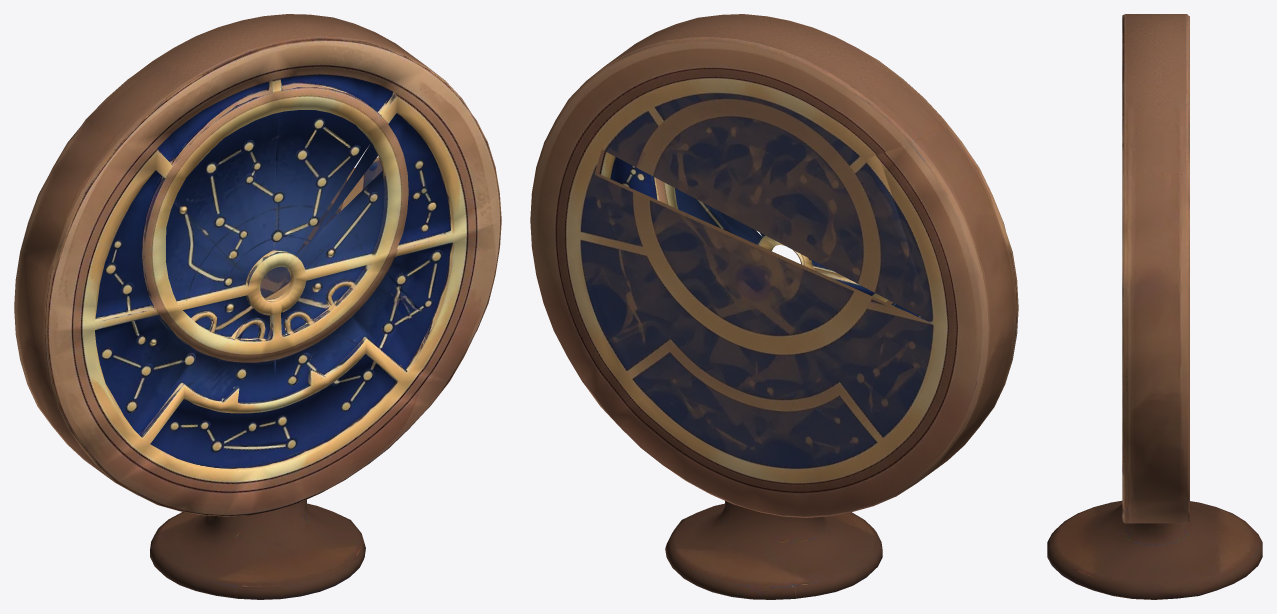
The model's file is starchart.glb.
3 views of the same model, side by side, from view 1: azimuth 30°, elevation 25°; view 2: azimuth 150°, elevation 25°; view 3: azimuth 270°, elevation 25° (orthographic).
Size of the model in its own units: 0.9108 by 1 by 0.3771.
1 material, 1 textured.
